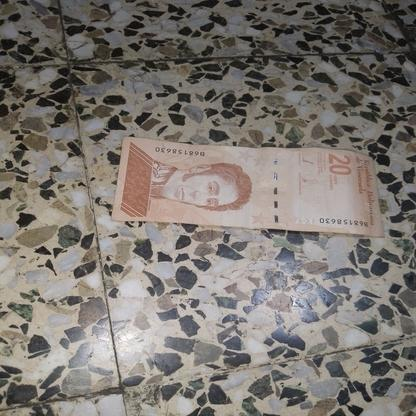twenty-front-vef: (111, 135, 385, 237)
